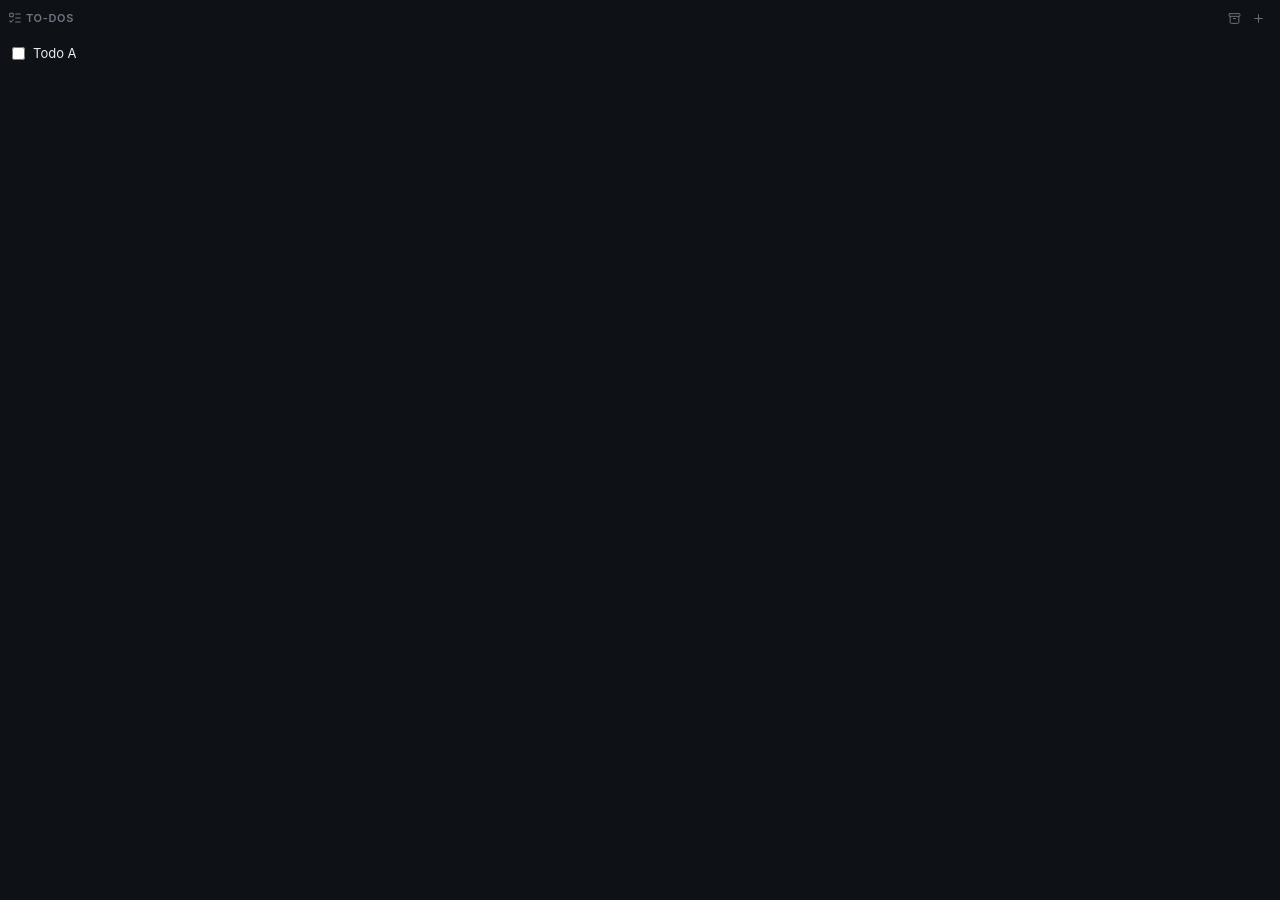
Test: TodoSubsection spawn button › opens the archive modal from the header, loading the list
The image size is (1280, 900).
Click the button named "View archived to-dos" at (1234, 18), box left=1224, top=8, right=1244, bottom=28
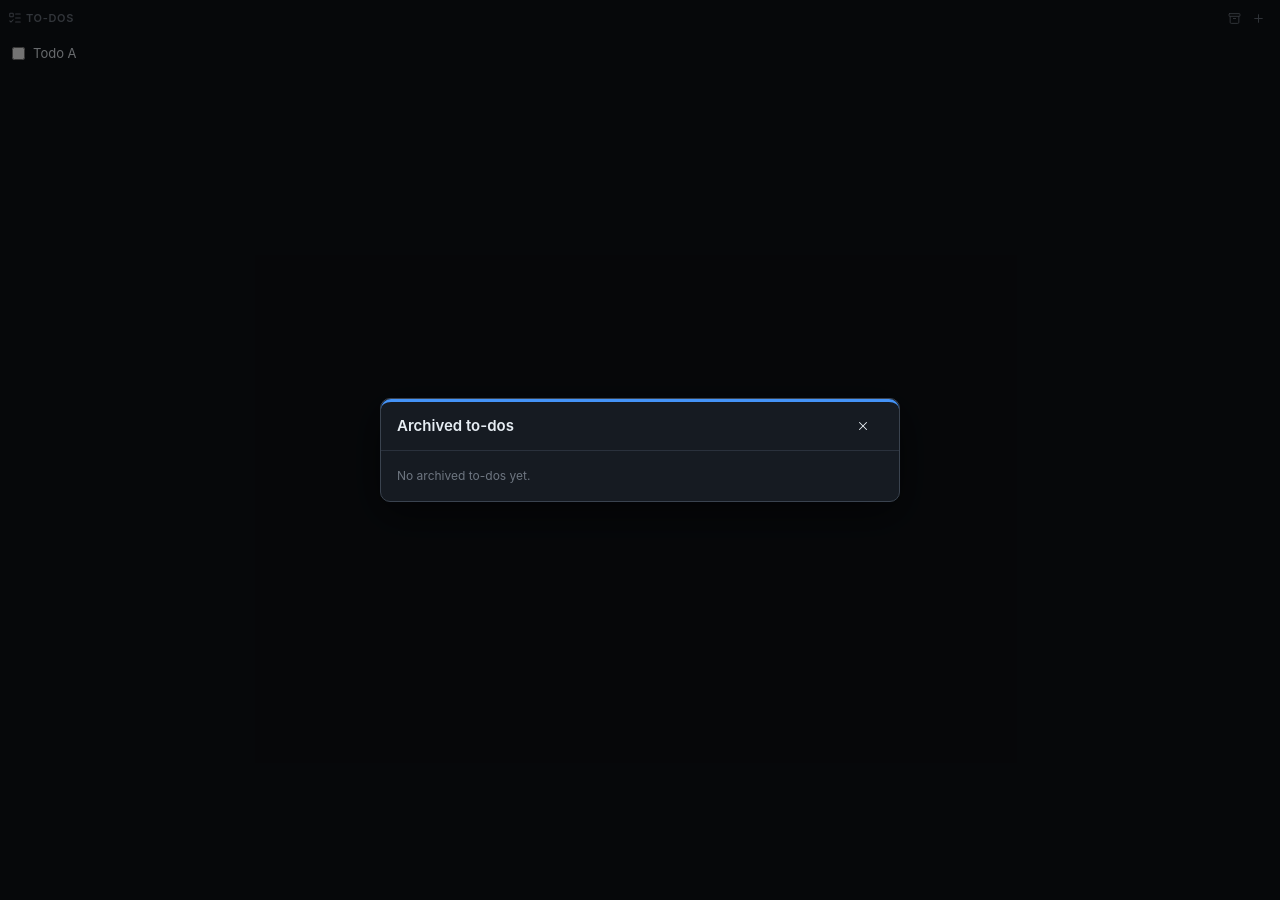
Result: the dialog "Archived to-dos" is shown at left=380, top=398, right=900, bottom=502
